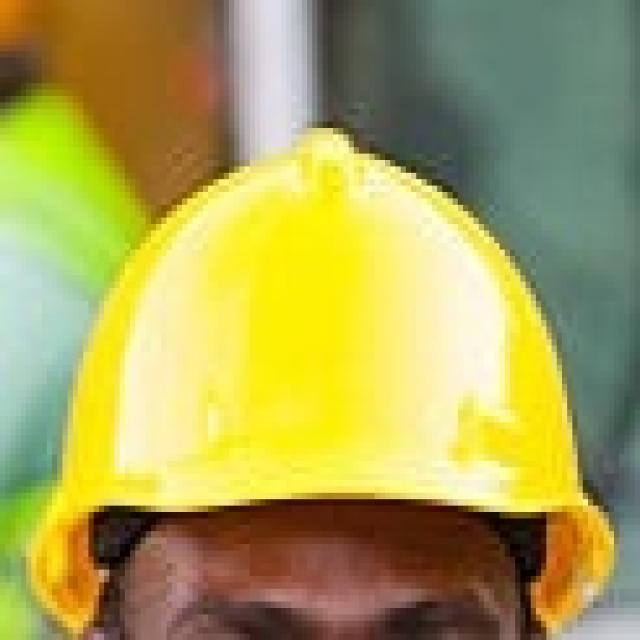Helmet: (25, 84, 605, 635)
